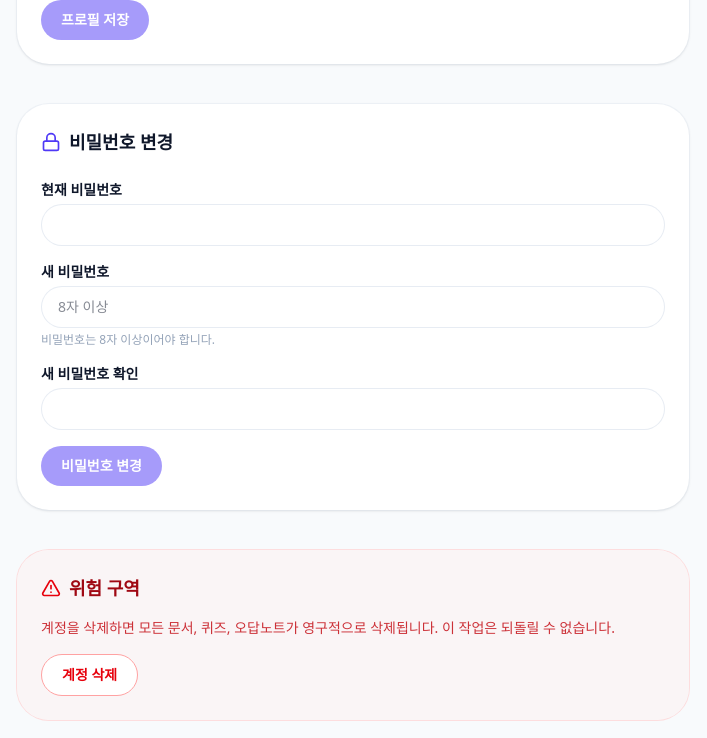
Test: SettingsPage › hides delete confirmation on cancel
The width and height of the screenshot is (707, 738).
(page scrolled)
Click the button "계정 삭제" at x=90, y=675, box [41,654,138,696]
(page scrolled)
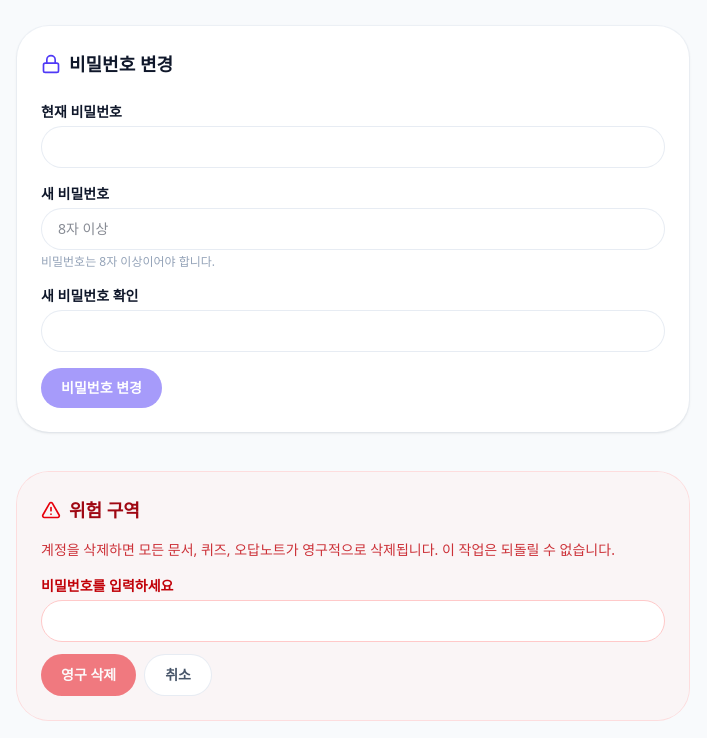
Expected: the password field labelled "비밀번호를 입력하세요" is shown, [41,600,665,642]
Click the button "취소" at x=178, y=675, box [144,654,212,696]
(page scrolled)
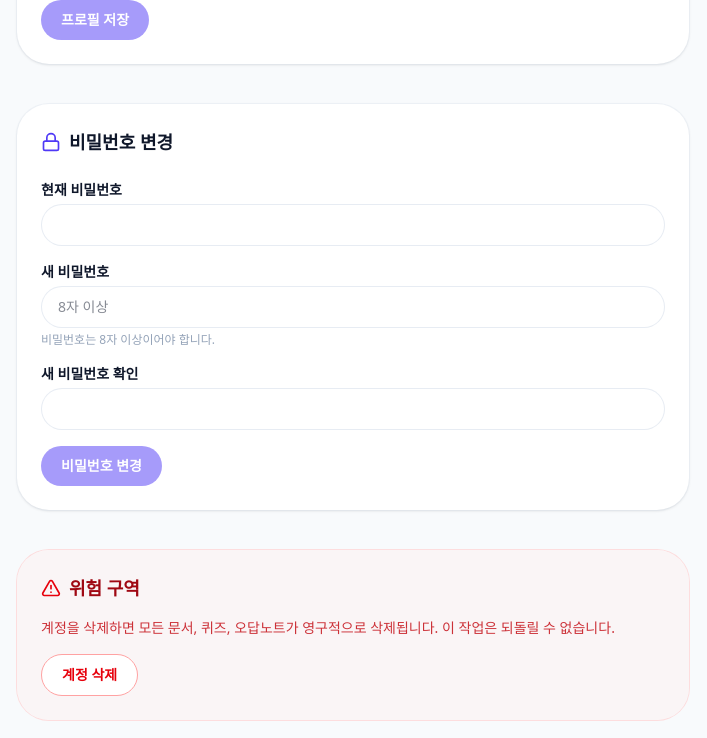
Expected: the label labelled "비밀번호를 입력하세요" is gone
